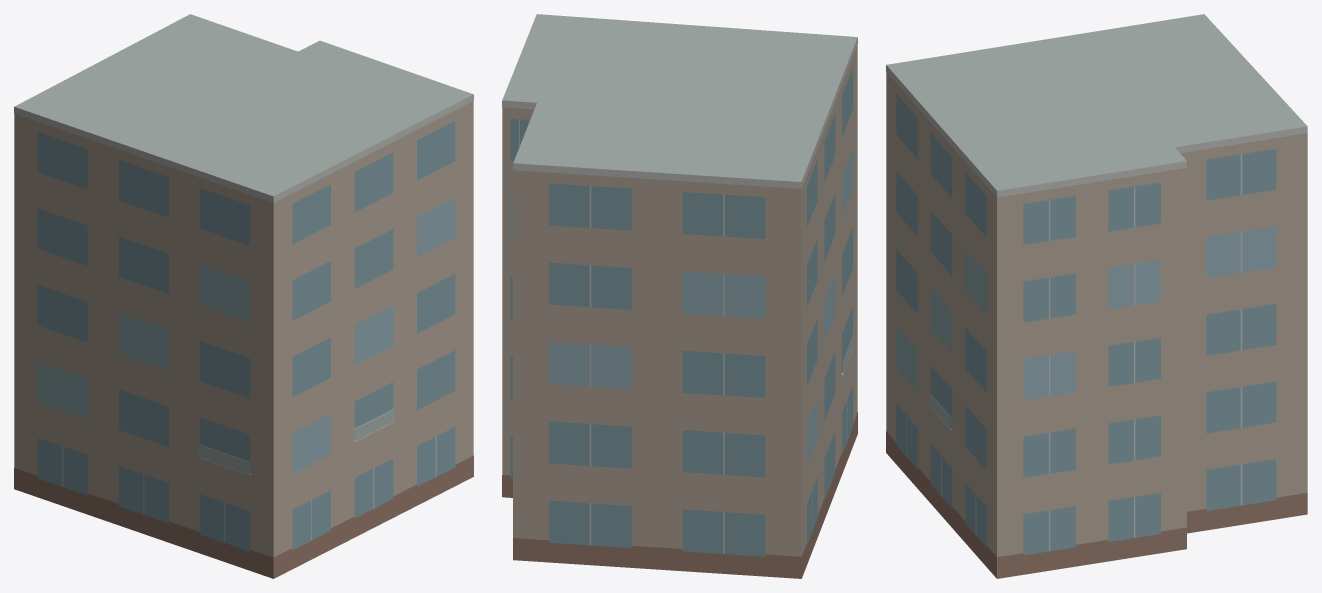
File: survey-upis-33002981.glb
The picture shows the model from 3 angles, left to right: view 1: azimuth 30°, elevation 25°; view 2: azimuth 150°, elevation 25°; view 3: azimuth 270°, elevation 25°; orthographic projection. The views are drawn at different scales.
Parts seen in each view (by area): view 1: survey-upis-33002981.tmp; view 2: survey-upis-33002981.tmp; view 3: survey-upis-33002981.tmp.
Boxes of the visible parts, x1,y1,x2,y2 form: survey-upis-33002981.tmp: (14,14,473,578); survey-upis-33002981.tmp: (502,14,857,578); survey-upis-33002981.tmp: (886,14,1307,578).
Size of the model in its own units: 13.9 by 14.2 by 13.99.
